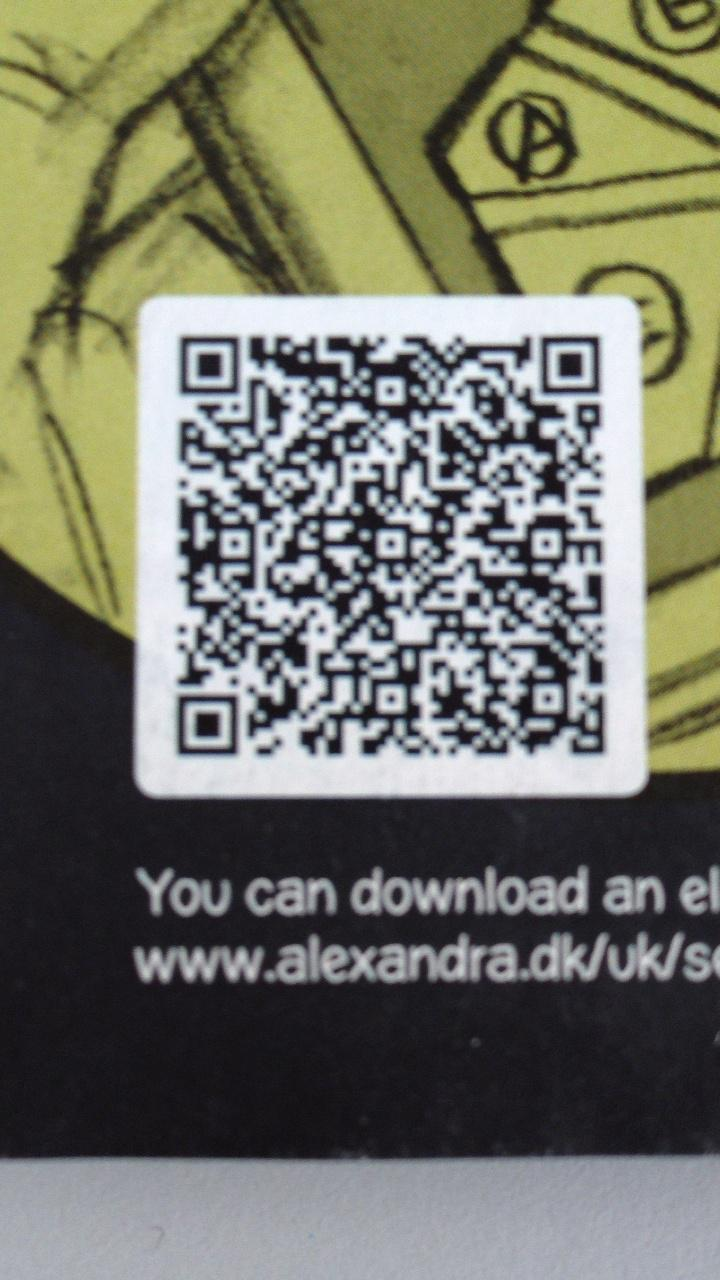Finder pattern: (532, 326, 611, 400), (170, 326, 247, 401), (171, 684, 245, 761)
